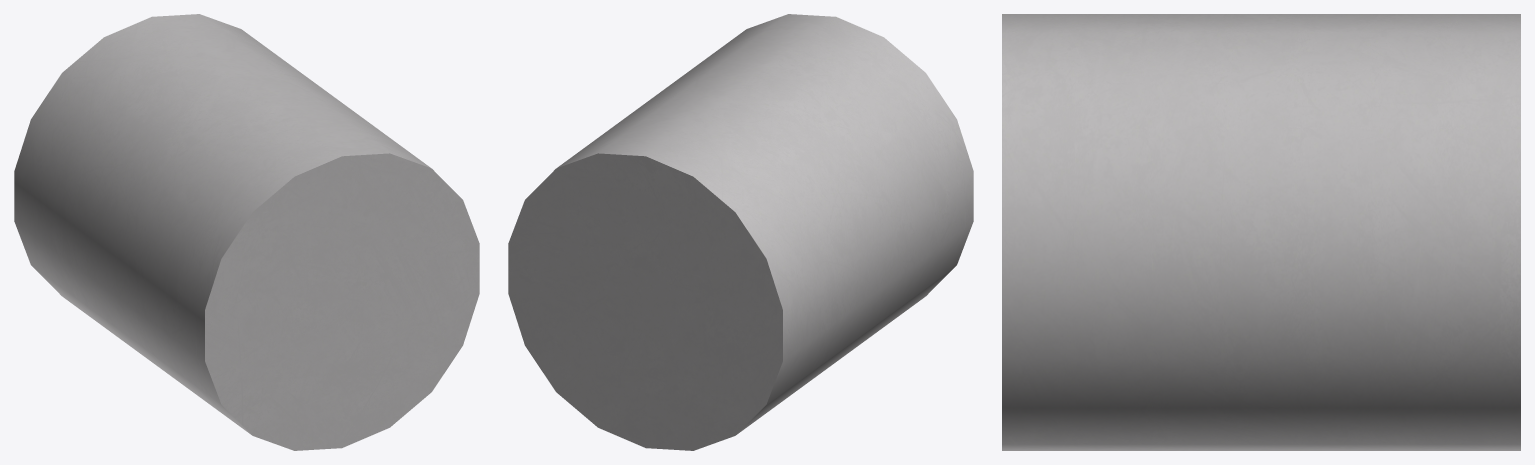
Rendered from DownCyclinCylin.fbx.
3 renders of one model, left to right at view 1: azimuth 30°, elevation 25°; view 2: azimuth 150°, elevation 25°; view 3: azimuth 270°, elevation 25°, orthographic. The views are drawn at different scales.
Visible parts, largest first — view 1: Cylinder.058; view 2: Cylinder.058; view 3: Cylinder.058.
Boxes of the visible parts, box(x1,y1,x2,y2) form: Cylinder.058: box(14, 14, 479, 450); Cylinder.058: box(508, 14, 973, 450); Cylinder.058: box(1002, 14, 1520, 450).
Bounding box in the file's own units: 189 × 192 × 227.
Materials: 1 (1 with a texture image).
